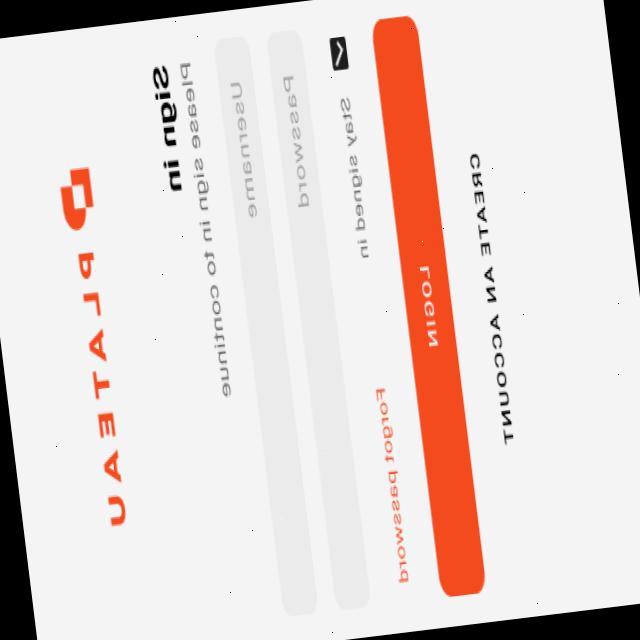QLabel: (177, 52, 234, 400), (467, 150, 516, 444), (374, 383, 412, 583), (148, 61, 186, 195), (416, 259, 439, 350)
VBtn: (368, 12, 488, 596), (439, 6, 546, 590)
VCheckbox: (326, 32, 374, 261)
VImg: (54, 159, 136, 530)
VTextField: (210, 30, 321, 617), (264, 24, 374, 616)
